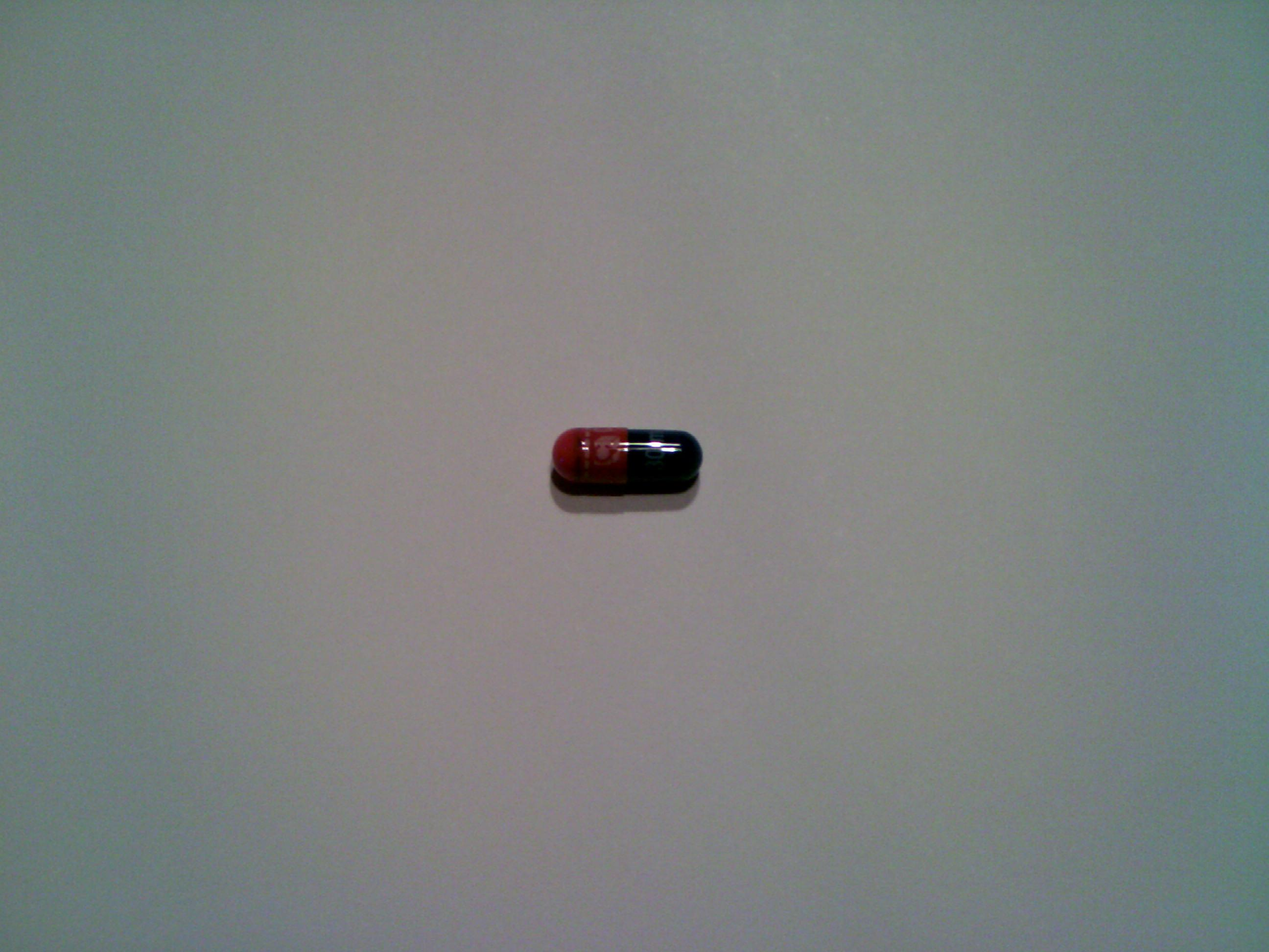Pill: (540, 418, 713, 504)
